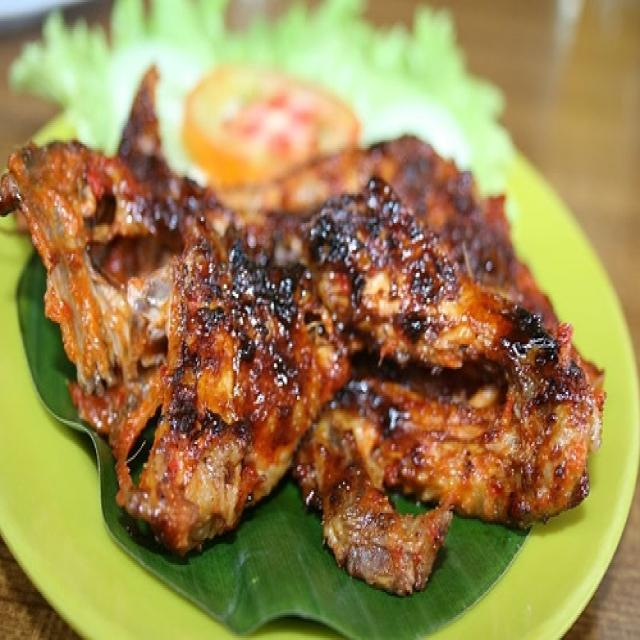鸡肉料理 含炸鸡: (8, 35, 623, 615)
